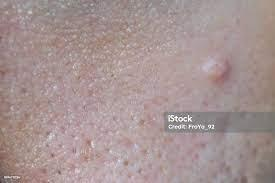Blackheads: (49, 119, 183, 183)
acne marks: (193, 53, 264, 80)
